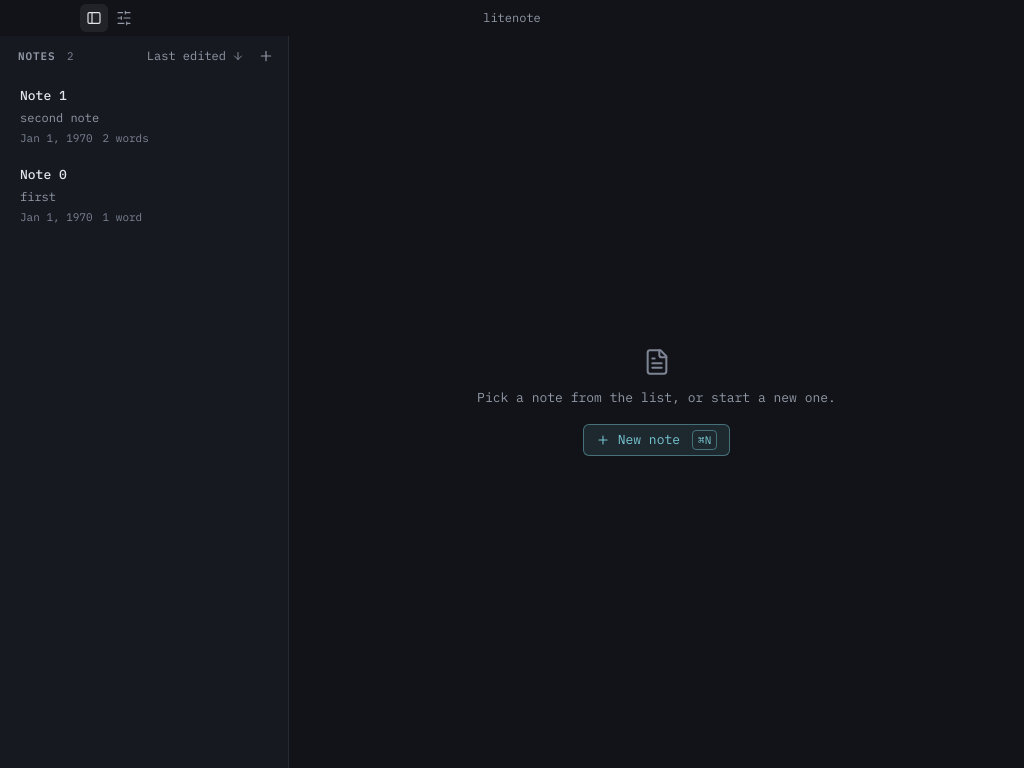
Test case: App › settings › disables ligatures for a font without them
This screenshot has width=1024, height=768.
Click the button named "Settings" at (124, 18), box [110,4,138,32]
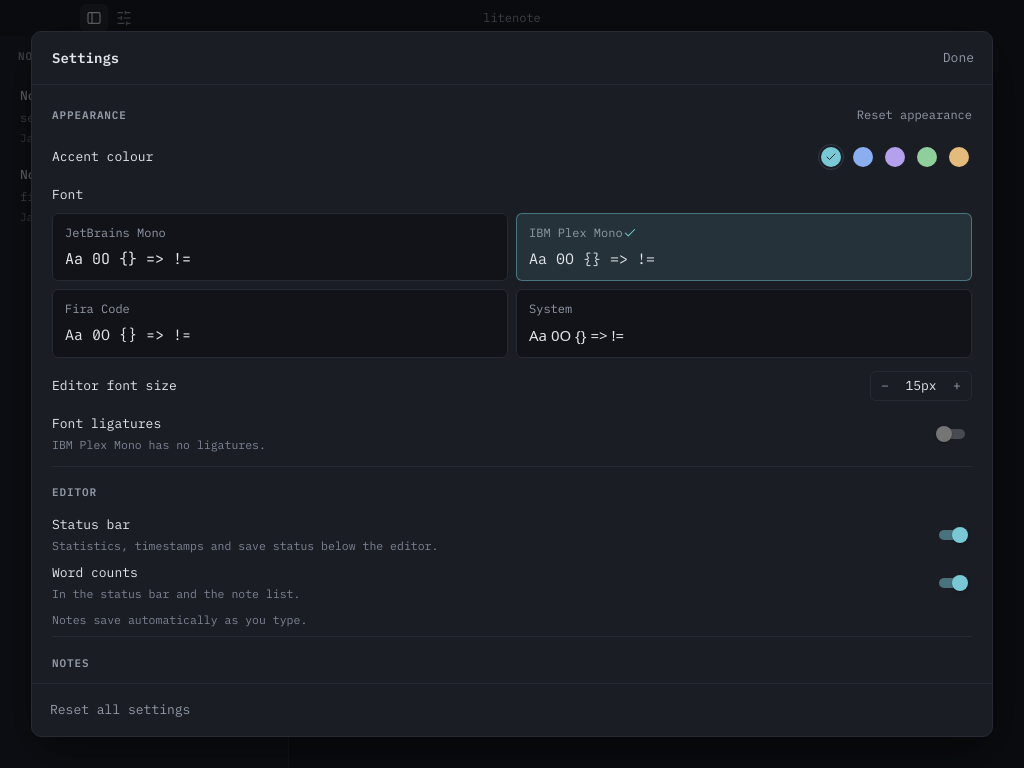
expect the switch labelled "Font ligatures" is disabled: met, box [52,415,161,432]
